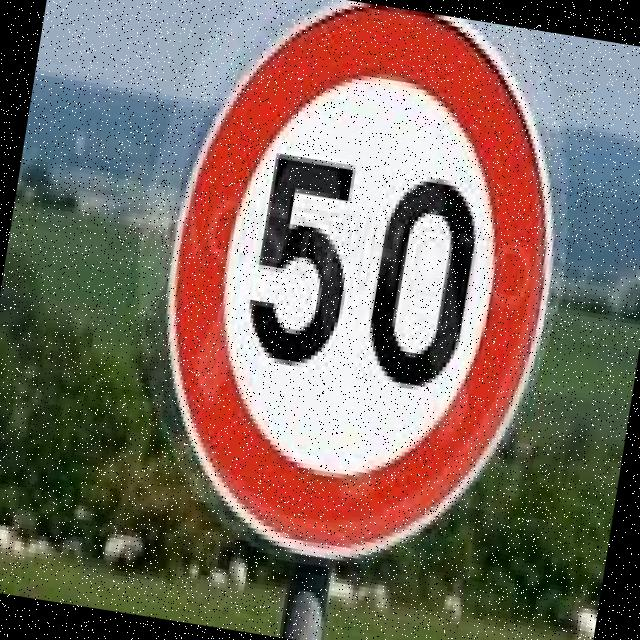speed_limit_50: (116, 0, 603, 597)
